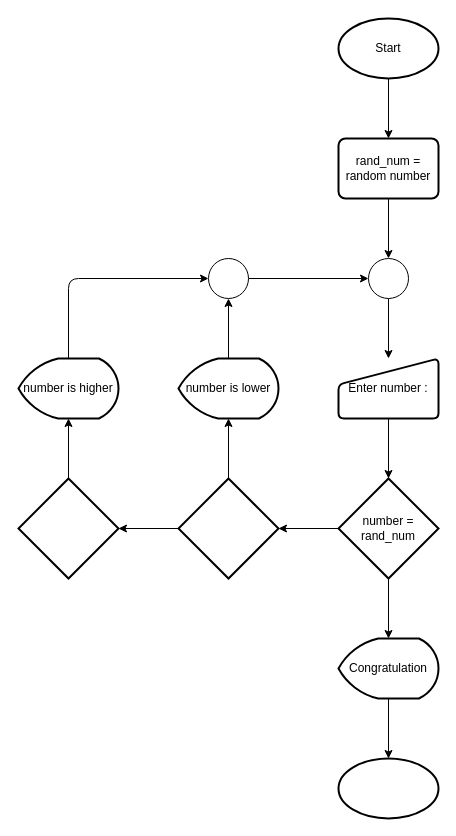
Some shapes in this 456 by 836 pixel diagram are drawn without their labels. The centre of each missing label's shape, as x and y in pixels:
"End" belongs at (x=388, y=788).
"number < rand_num" belongs at (x=228, y=528).
"number > rand_num" belongs at (x=68, y=528).
